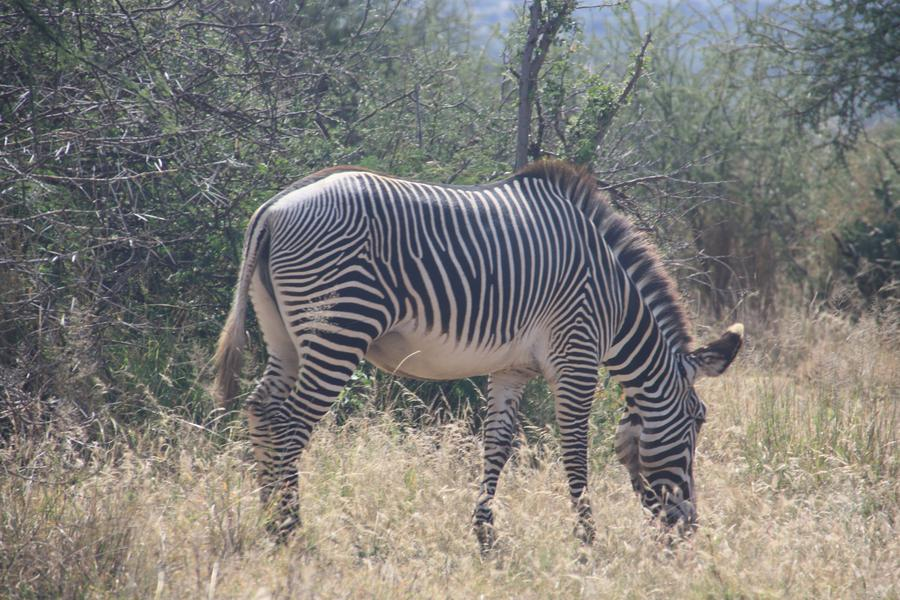zebra_grevys: (251, 175, 606, 364)
